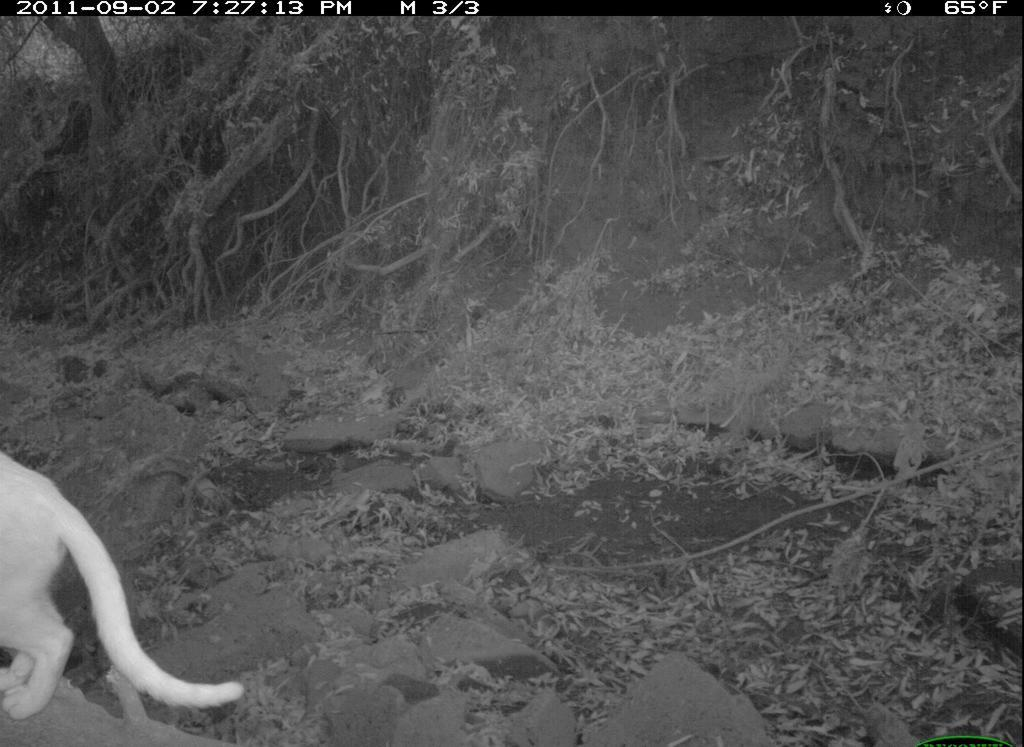cat: (2, 445, 253, 730)
